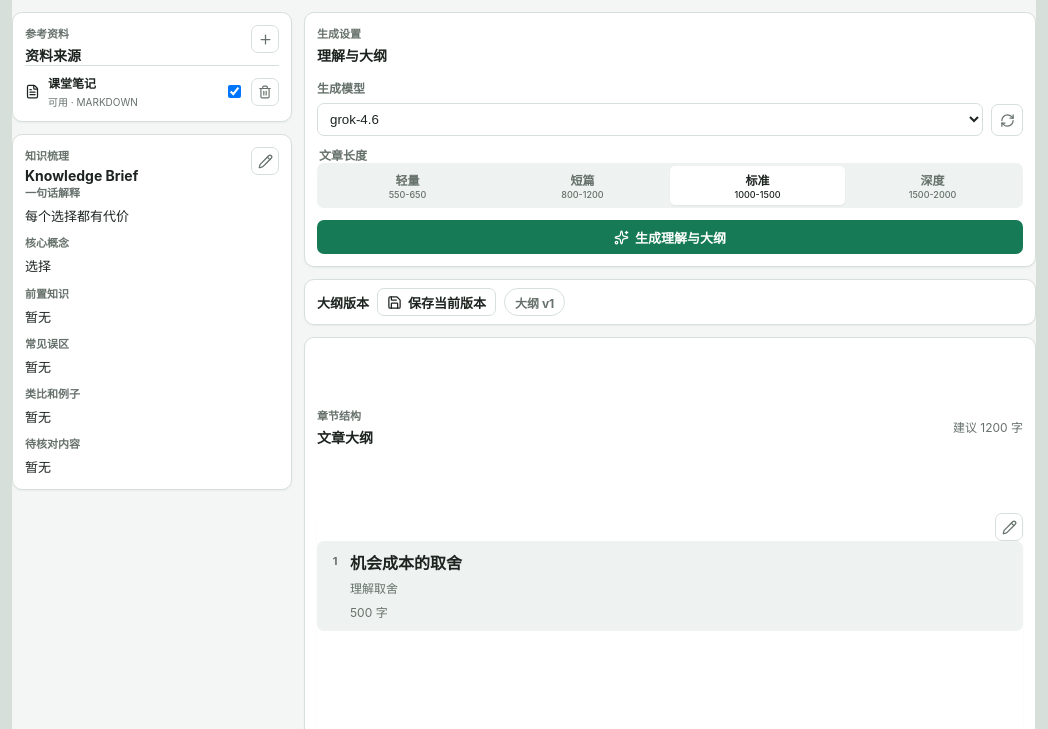
Test: OutlineWorkspace › marks a passed review stale when an enabled source changes
Click the checkbox named "启用课堂笔记" at (234, 92), box [228,85,241,98]
(page scrolled)
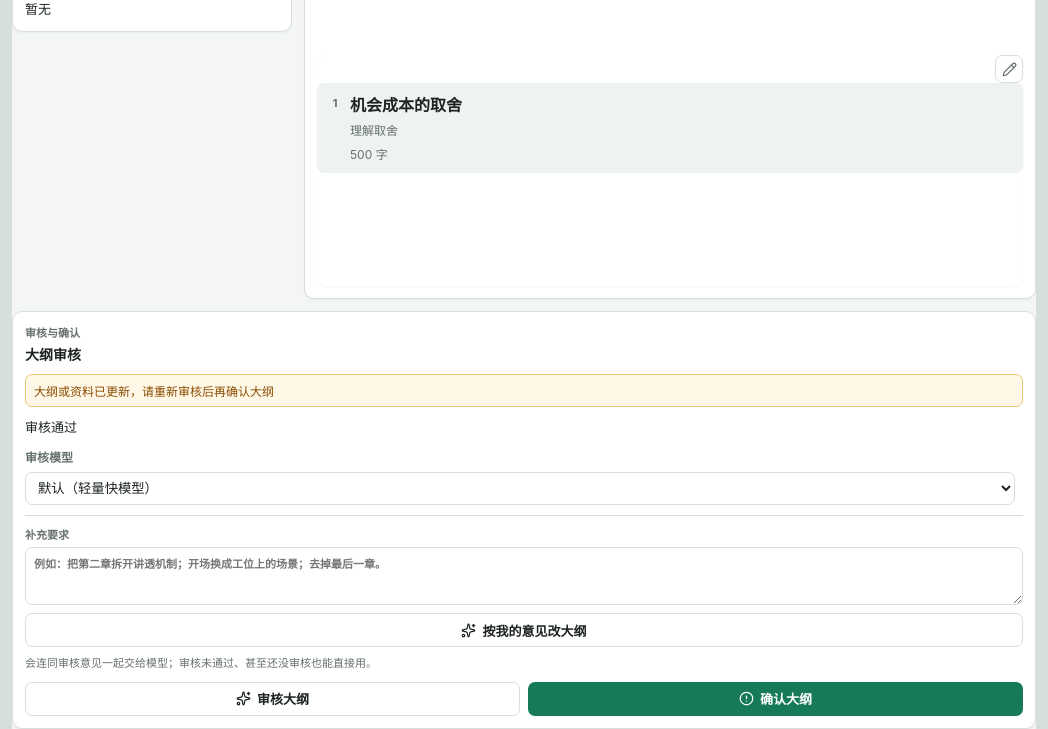
Check: the text "大纲或资料已更新，请重新审核后再确认大纲" is shown, box [25,374,1023,407]
